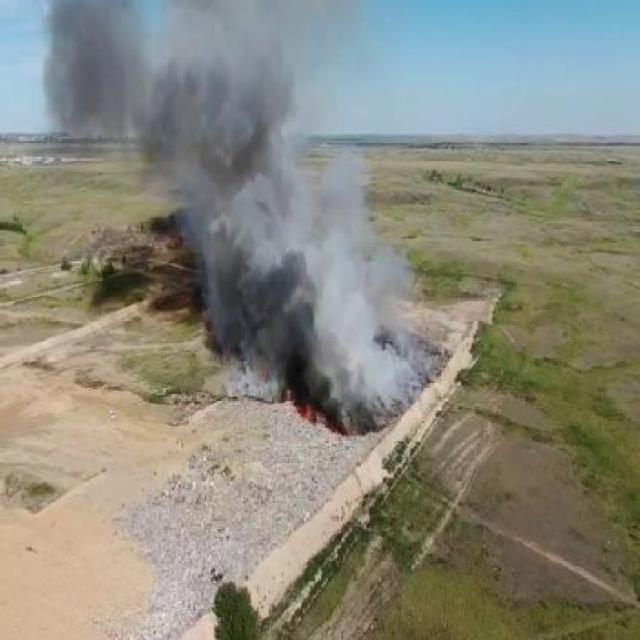Smoke: (53, 0, 451, 452)
